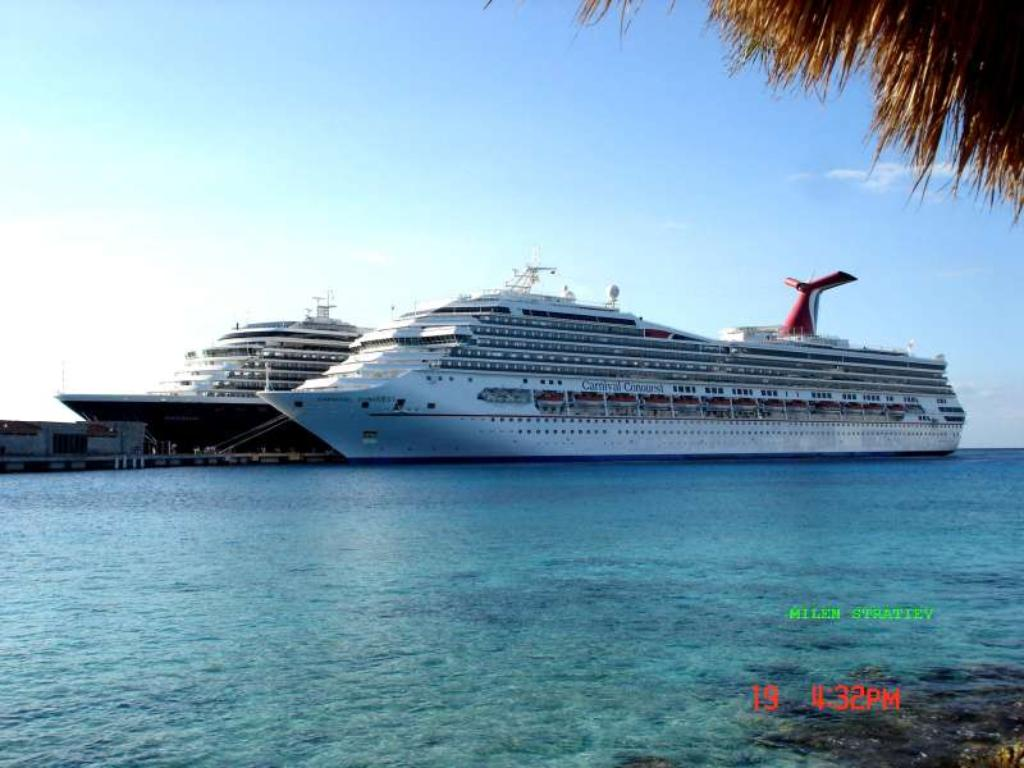PassengerShip: (257, 259, 975, 477), (50, 280, 472, 475)
